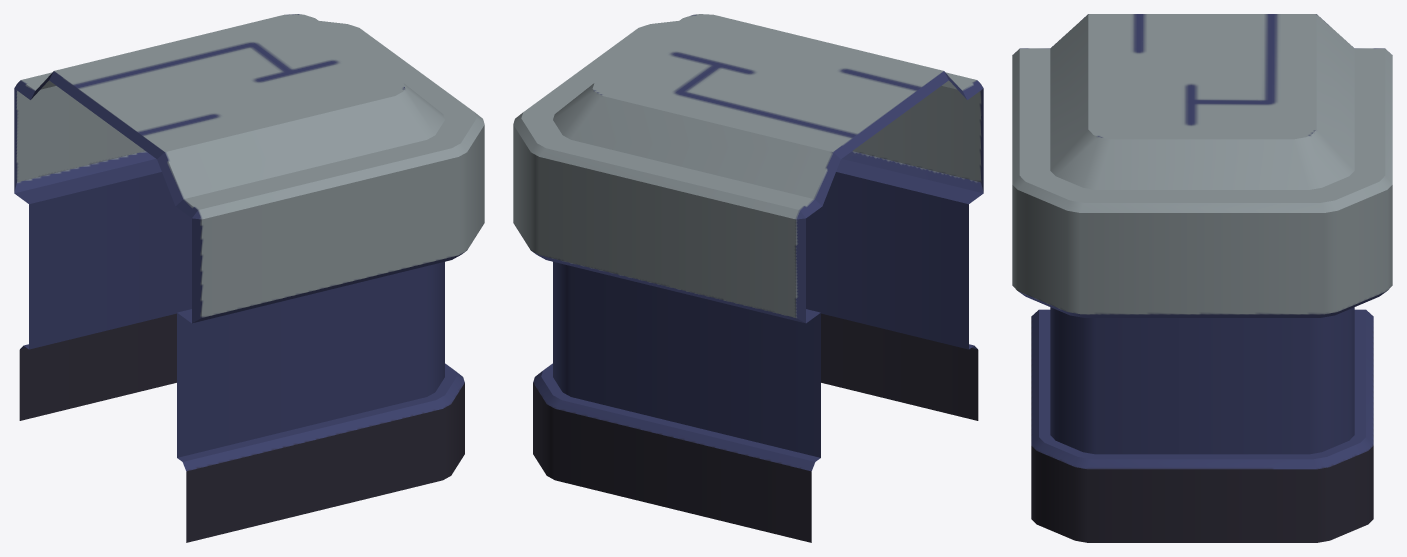
The model's file is Wall_1.FBX.
3 views of the same model, side by side, from view 1: azimuth 30°, elevation 25°; view 2: azimuth 150°, elevation 25°; view 3: azimuth 270°, elevation 25° (orthographic). The views are drawn at different scales.
Parts seen in each view (by area): view 1: Wall_1; view 2: Wall_1; view 3: Wall_1.
Part boxes in pixels (box(x1,y1,x2,y2)): Wall_1: box(14, 14, 484, 542); Wall_1: box(513, 14, 983, 542); Wall_1: box(1012, 14, 1392, 542).
Bounding box in the file's own units: 100 × 110 × 100.
